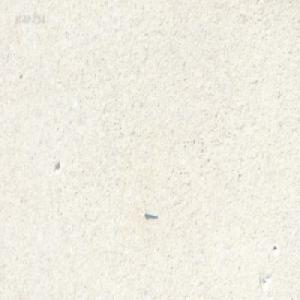Nail: (143, 209, 157, 218)
